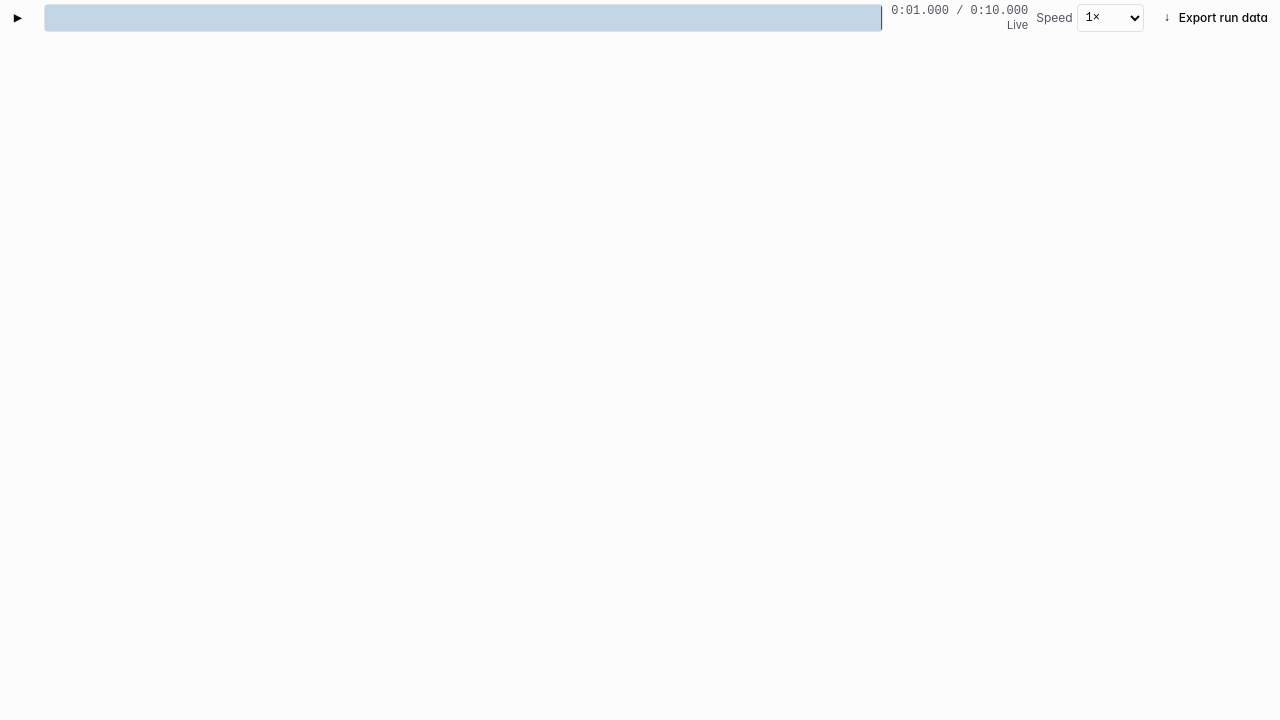
Test: ScrubControl export › exports every column of the run, and says which unit the values are in
What coordinates should you click on to do the following:
click the button with test id "export-menu-trigger"
I would click on:
 (1216, 18)
Its box is 1152,2 -> 1279,34.
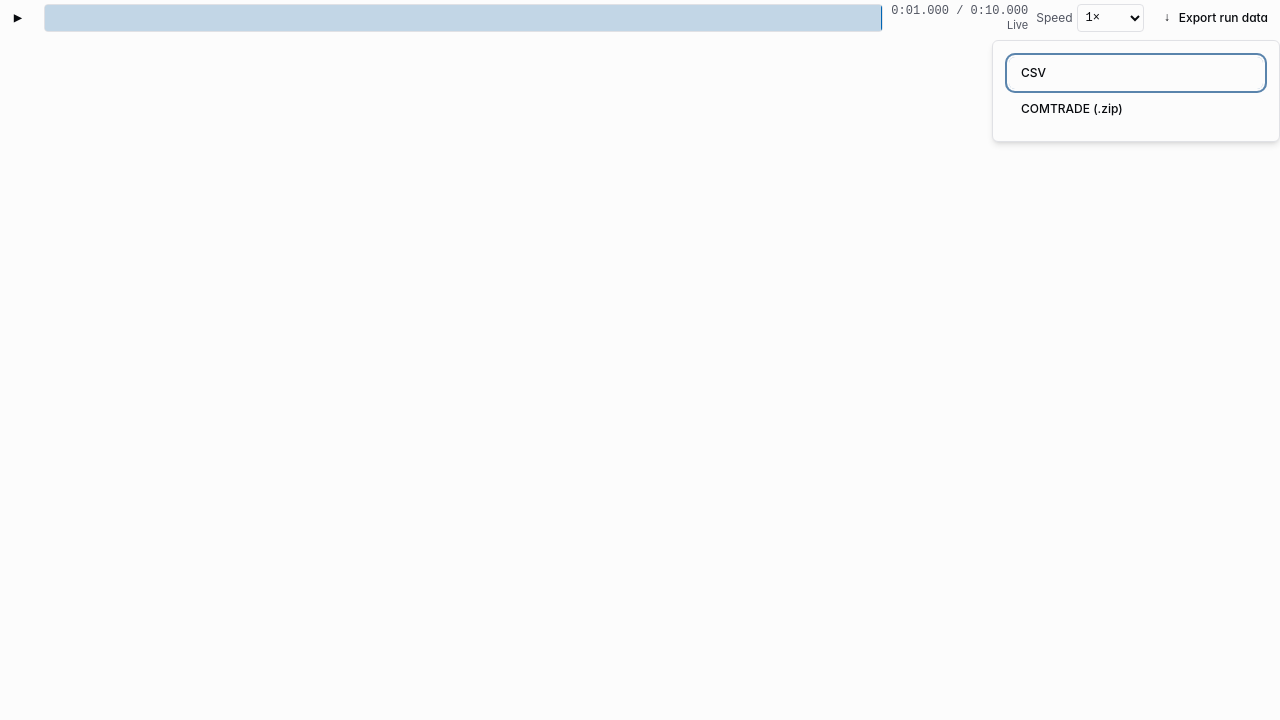
What coordinates should you click on to do the following:
click the button with test id "export-menu-csv"
I would click on:
 (1136, 73)
Its box is 1009,57 -> 1263,89.
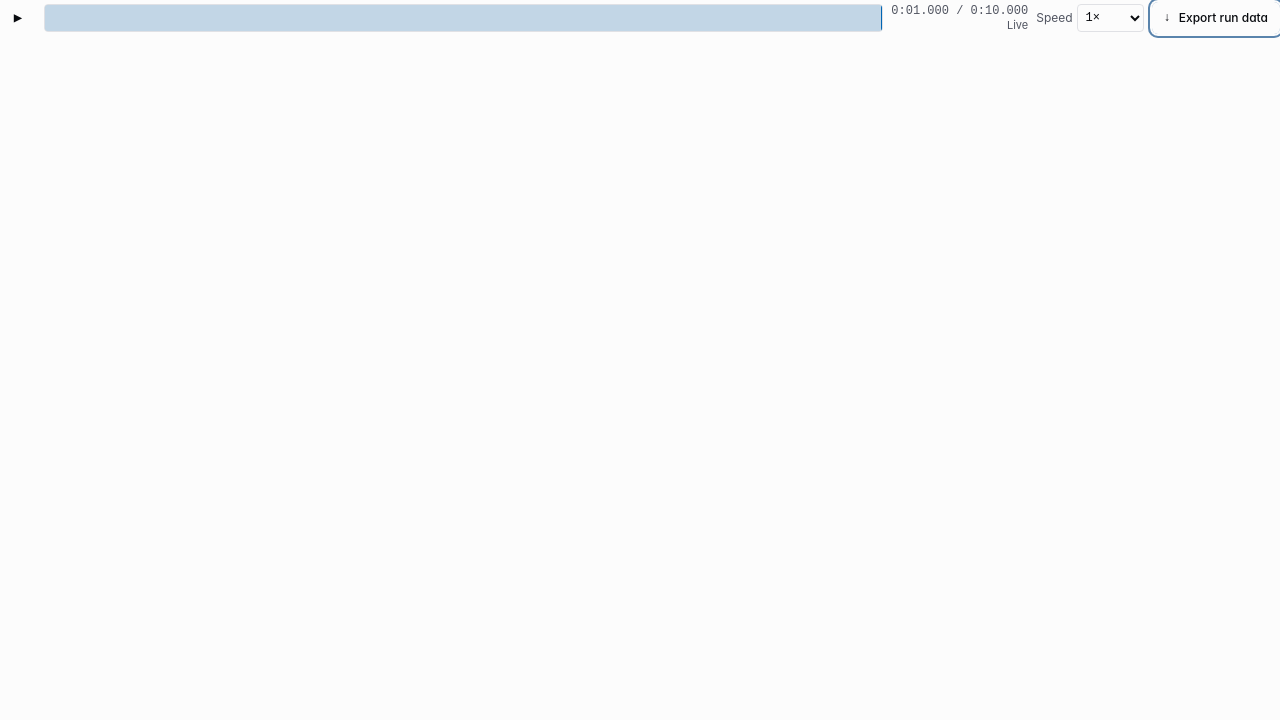
Expected: the dialog with test id "export-menu" is gone
